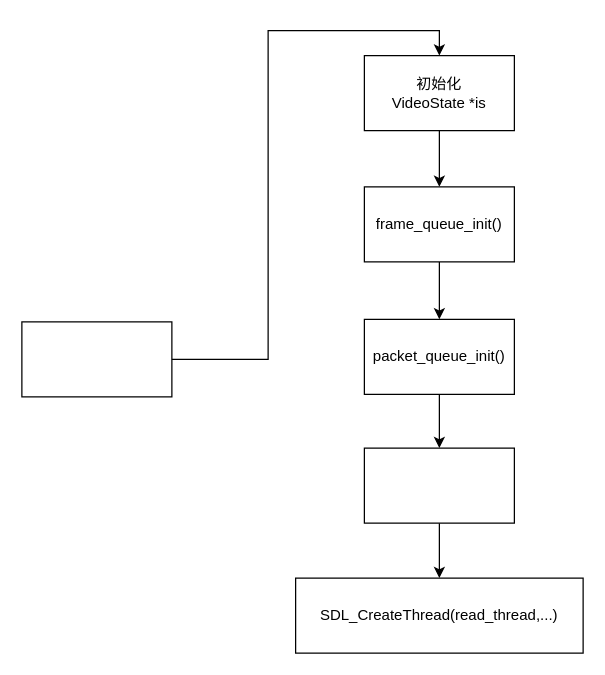
The diagram is 605 pixels wide and 675 high, and some of its shapes have lost their labels. Each missing label, with the centre of its shape:
"init_clock()" belongs at (438,485).
"stream_open()" belongs at (96,359).
